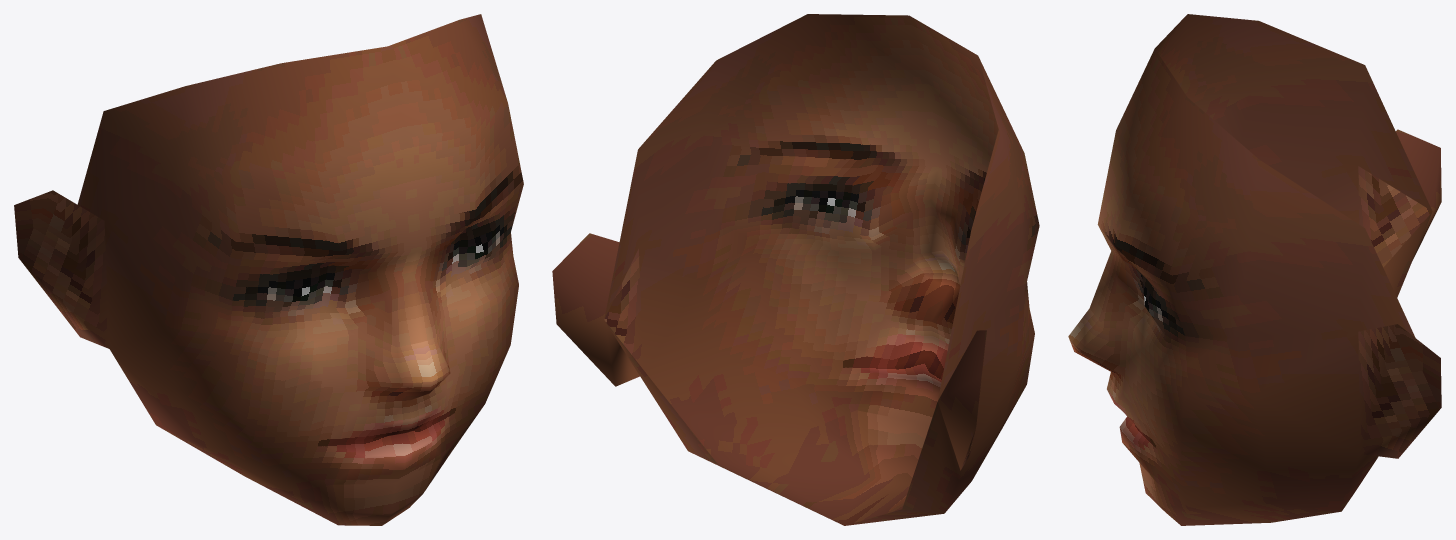
The picture shows the model from 3 angles, left to right: view 1: azimuth 30°, elevation 25°; view 2: azimuth 150°, elevation 25°; view 3: azimuth 270°, elevation 25°; orthographic projection. The views are drawn at different scales.
Visible parts, largest first — view 1: mesh00; view 2: mesh00; view 3: mesh00.
Part boxes in pixels (box(x1,y1,x2,y2)): mesh00: box(14, 14, 523, 525); mesh00: box(552, 14, 1039, 525); mesh00: box(1068, 14, 1441, 525).
Size of the model in its own units: 19.4 by 20.03 by 14.57.
